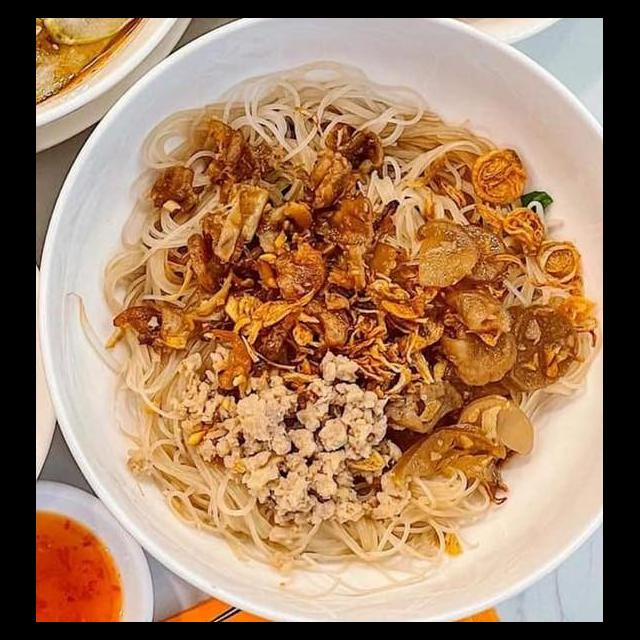hu tieu: (128, 42, 542, 210), (86, 178, 234, 570), (116, 460, 512, 598)
thit bam: (173, 339, 420, 532)
